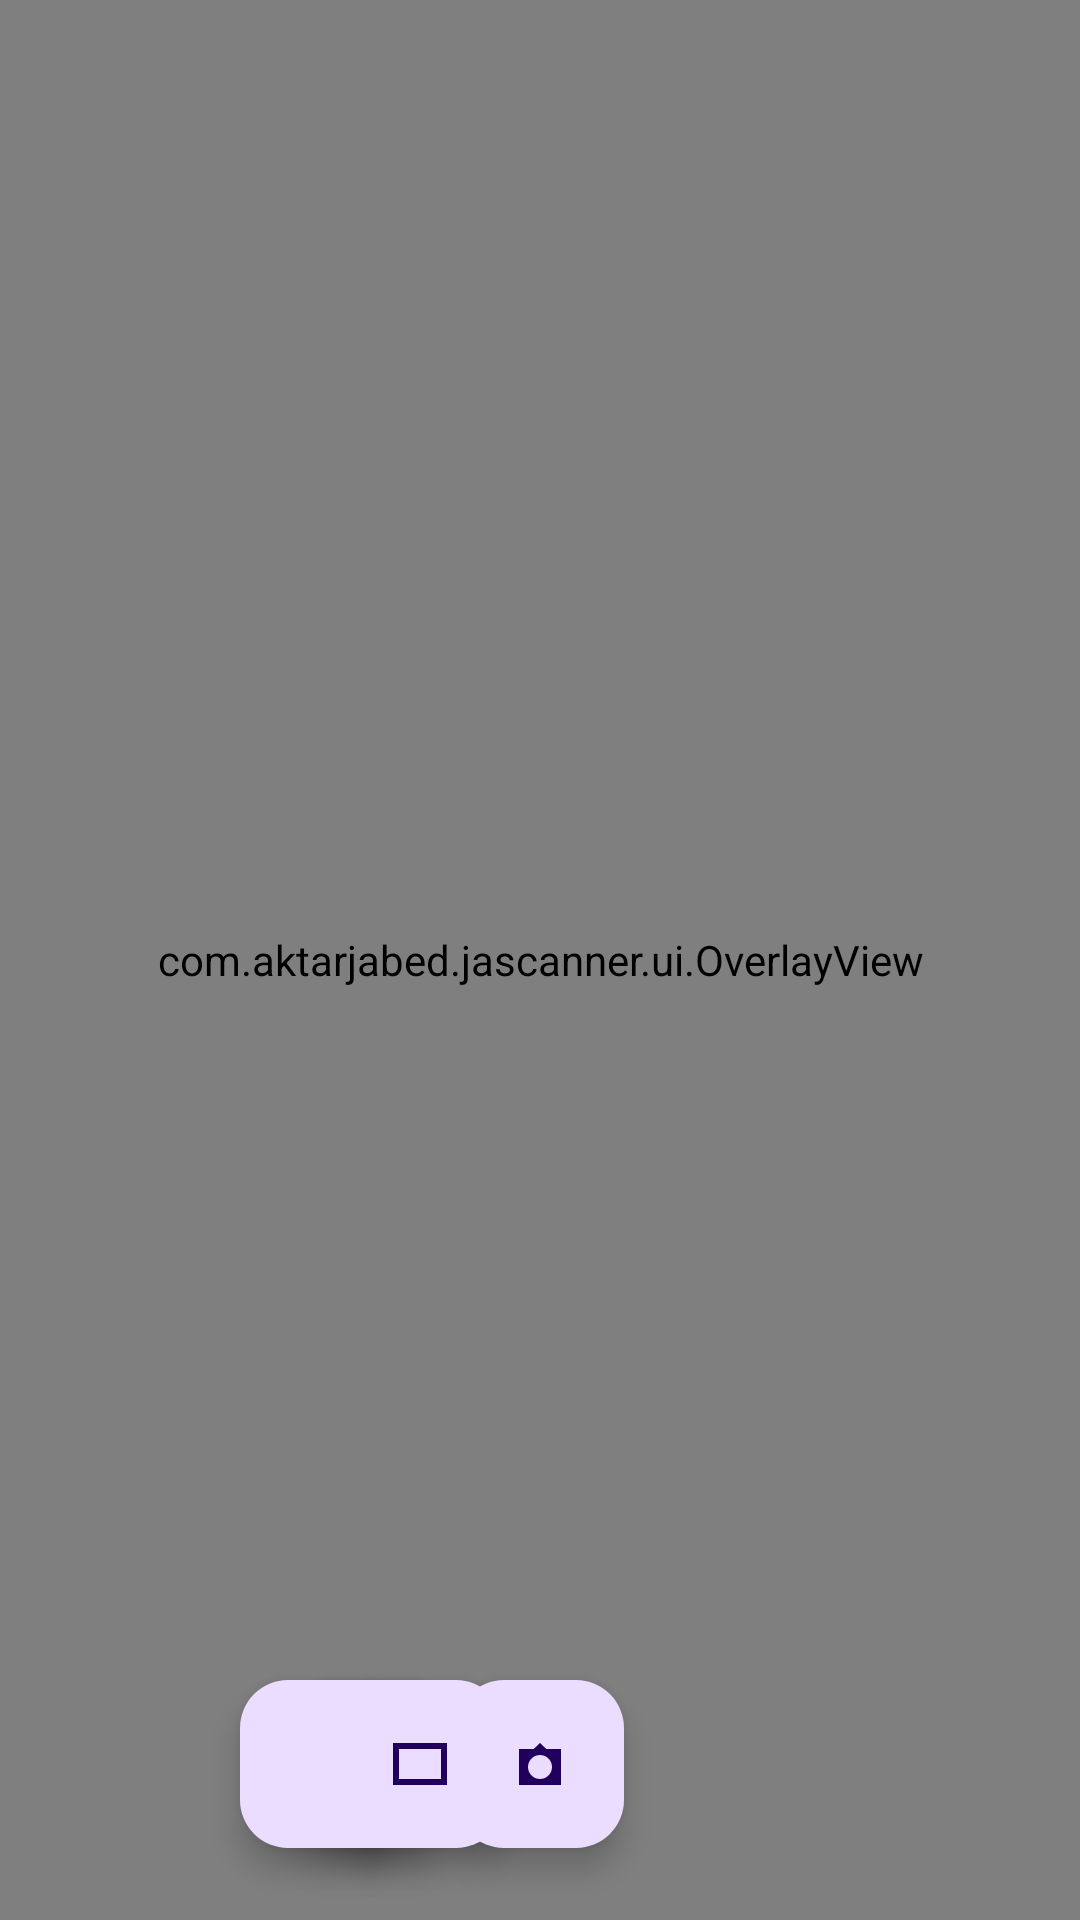

Screen size 1080 x 1920. Icon name, then its box in pixels as (x1, y1, x2, y2):
Capture: (456, 1680, 624, 1848)
